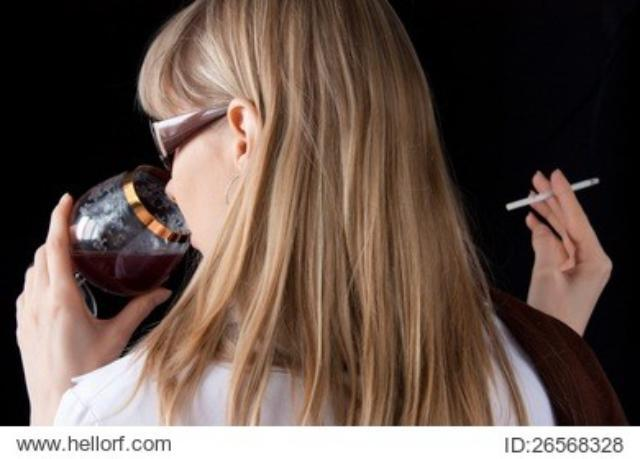Smoking: (492, 173, 608, 211)
